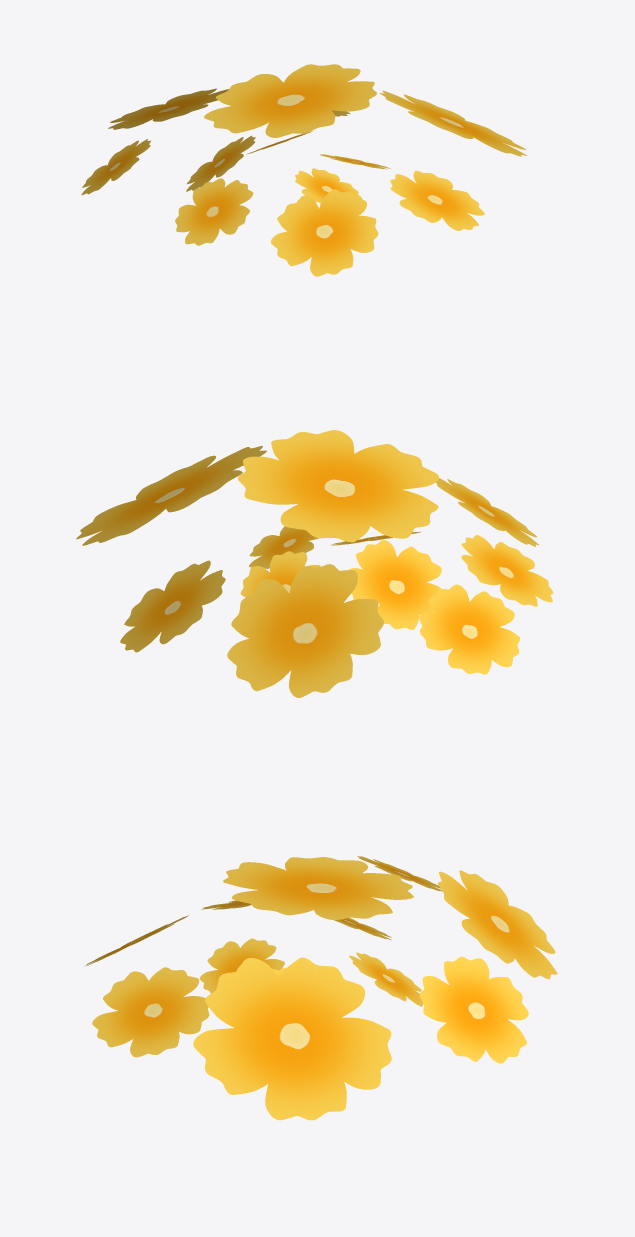
The model's file is Msh_flowers_Env.fbx.
The picture shows the model from 3 angles, top to bottom: view 1: azimuth 30°, elevation 25°; view 2: azimuth 150°, elevation 25°; view 3: azimuth 270°, elevation 25°; orthographic projection. The views are drawn at different scales.
Parts seen in each view (by area): view 1: Line014; view 2: Line014; view 3: Line014.
Boxes of the visible parts, box(x1,y1,x2,y2) form: Line014: box(81, 64, 526, 276); Line014: box(76, 430, 553, 697); Line014: box(85, 856, 557, 1120).
Size of the model in its own units: 11.68 by 3.83 by 10.21.
